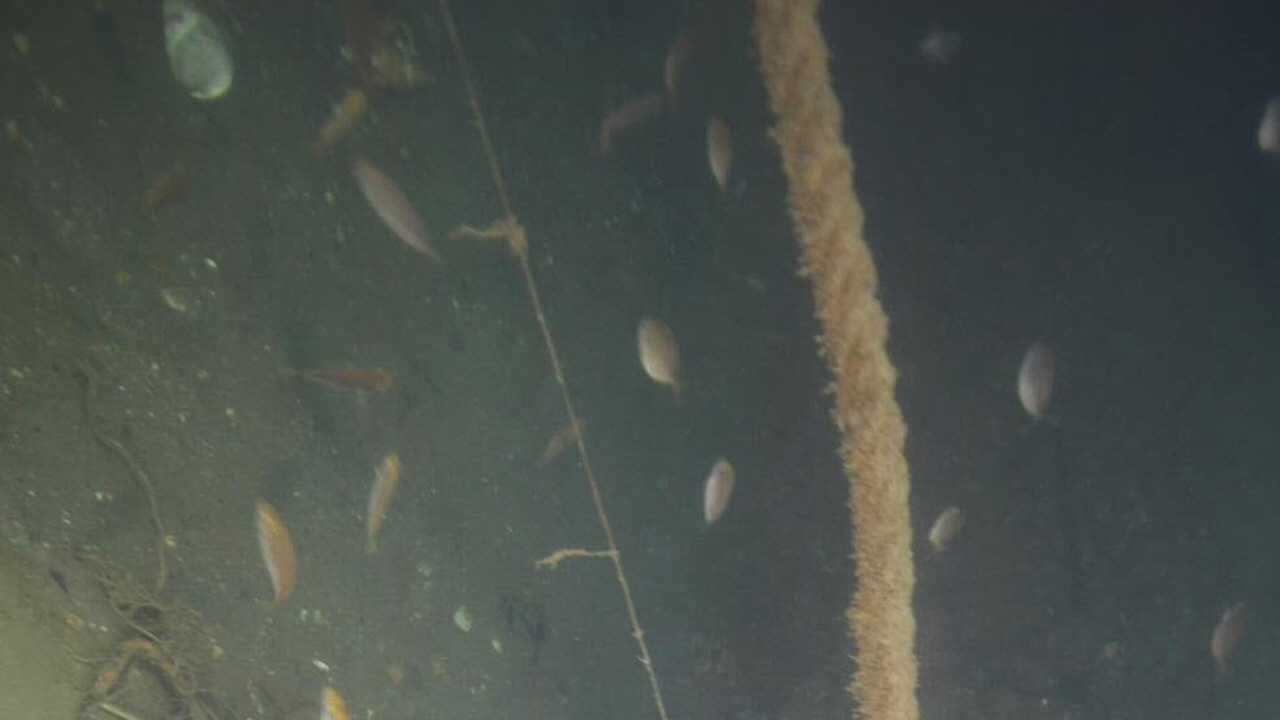rope: (750, 0, 923, 720)
